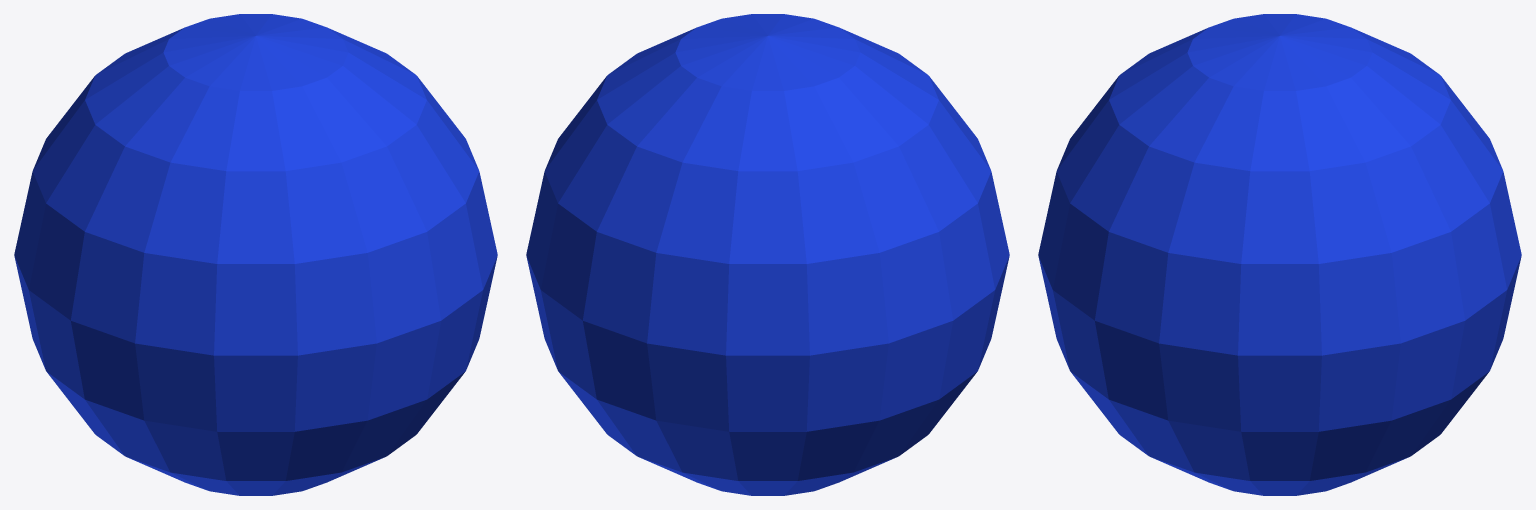
The model's file is No1Hutuu.fbx.
3 renders of one model, left to right at view 1: azimuth 30°, elevation 25°; view 2: azimuth 150°, elevation 25°; view 3: azimuth 270°, elevation 25°, orthographic.
Visible parts, largest first — view 1: No1Hutuu; view 2: No1Hutuu; view 3: No1Hutuu.
Part boxes in pixels (x1=…): No1Hutuu: x1=14, y1=14, x2=497, y2=495; No1Hutuu: x1=526, y1=14, x2=1009, y2=495; No1Hutuu: x1=1038, y1=14, x2=1521, y2=495.
Bounding box in the file's own units: 197 × 200 × 200.
